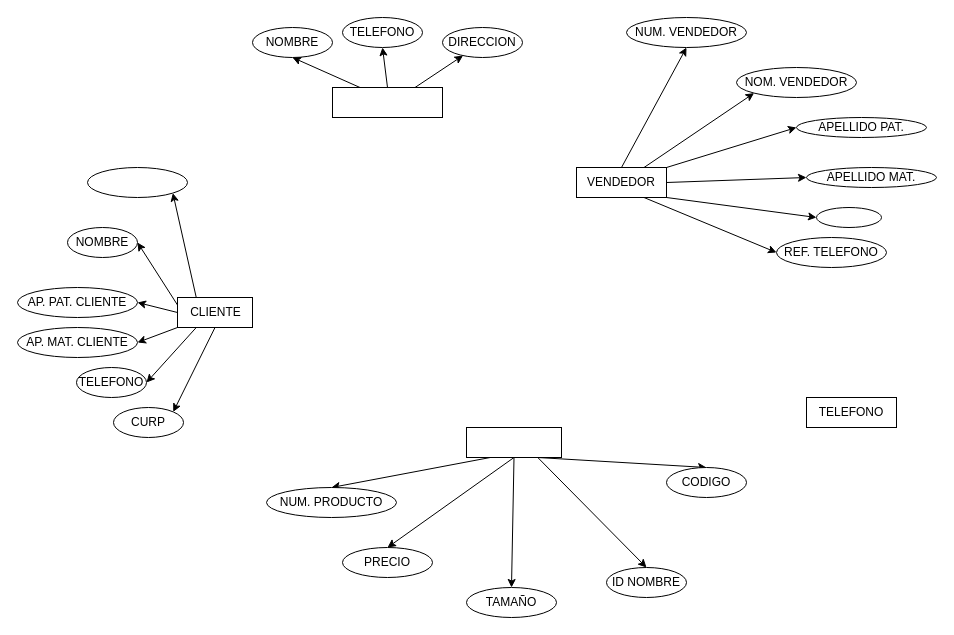
The diagram is 954 pixels wide and 635 high, and some of its shapes have lost their labels. The box of each missing label's shape, as (x1, y1, x2, y2) in pixels:
NUM.CLIENTE: (86, 166, 188, 198)
PRODUCTO: (466, 426, 562, 458)
PROVEDORES: (332, 86, 442, 118)
RFC: (816, 206, 882, 228)
